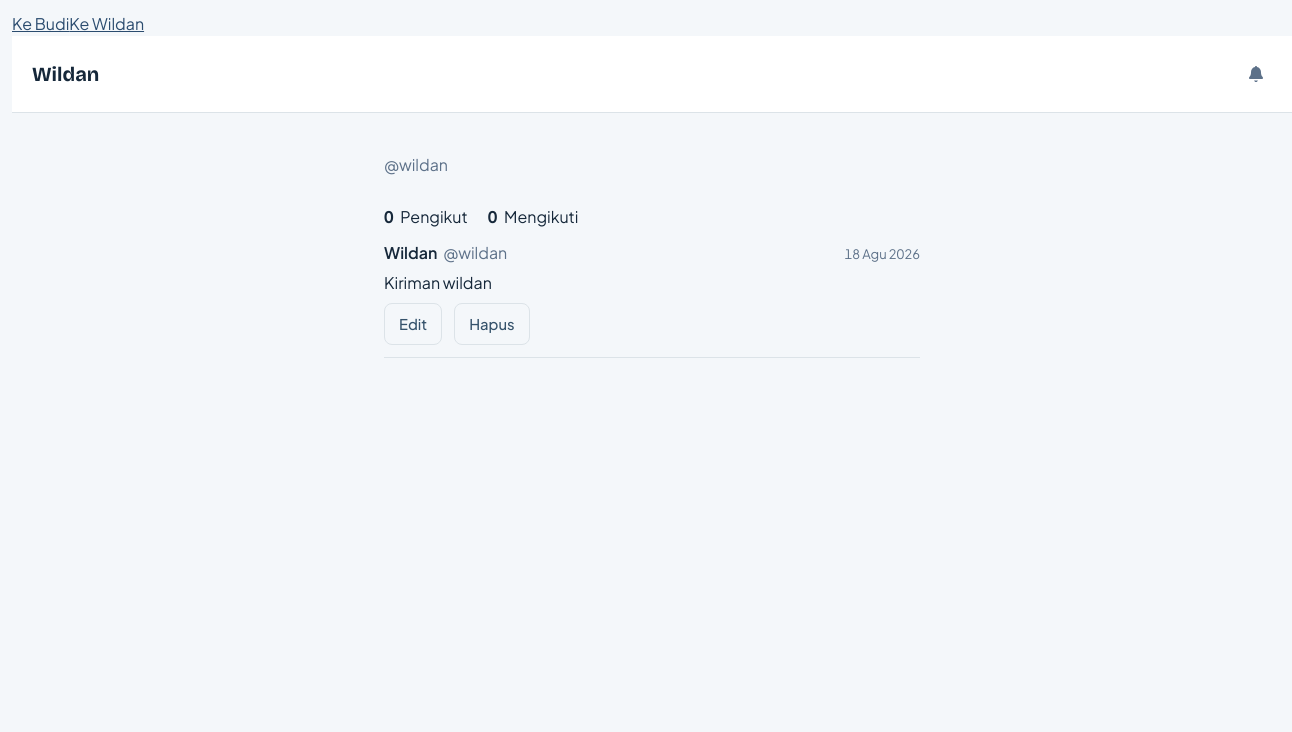
Test: ProfilePage — resets per-post state when the viewed profile changes › drops an open edit composer, so 'Simpan' cannot PATCH a post from the last profile
This screenshot has width=1292, height=732.
Expected: the text "Kiriman wildan" is shown, [384,272,492,293]
Click the button "Edit": [413, 324] box [384,303,442,345]
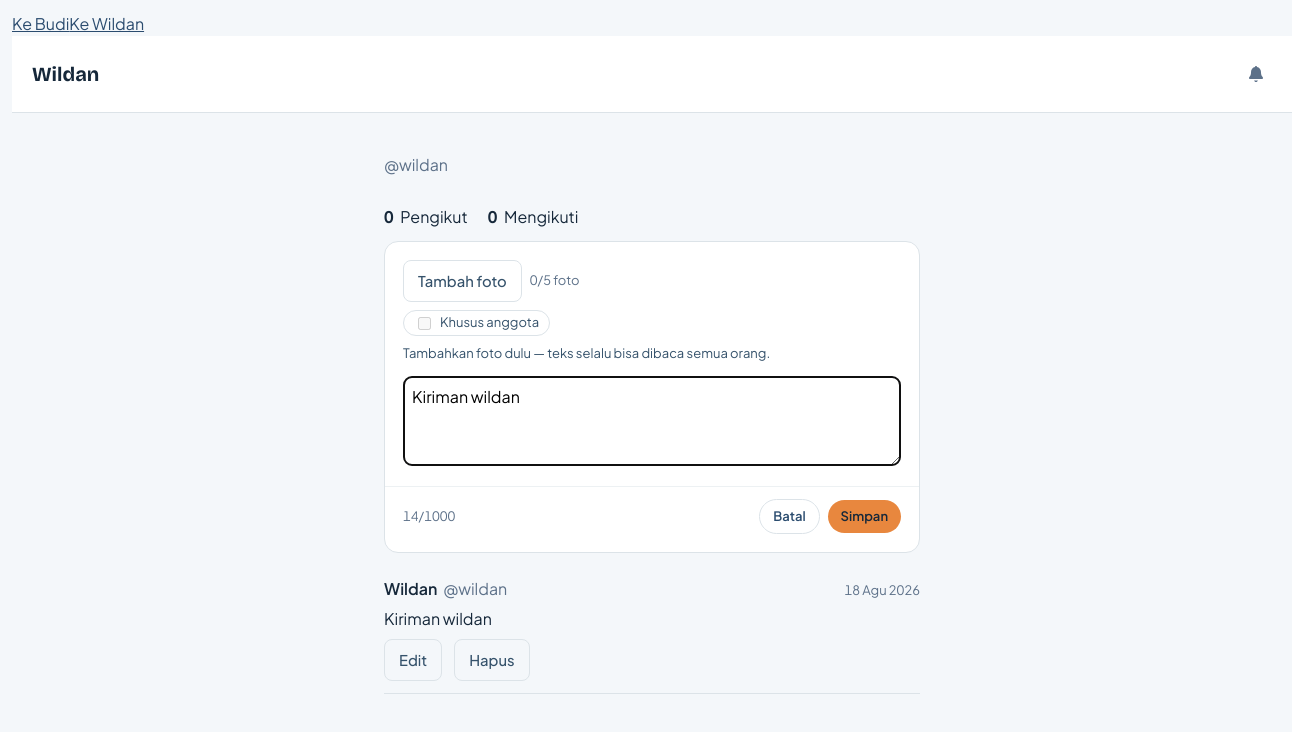
Expected: the button "Simpan" is shown, [828,500,901,533]
Click the link "Ke Budi": [41, 24] box [12,13,69,34]
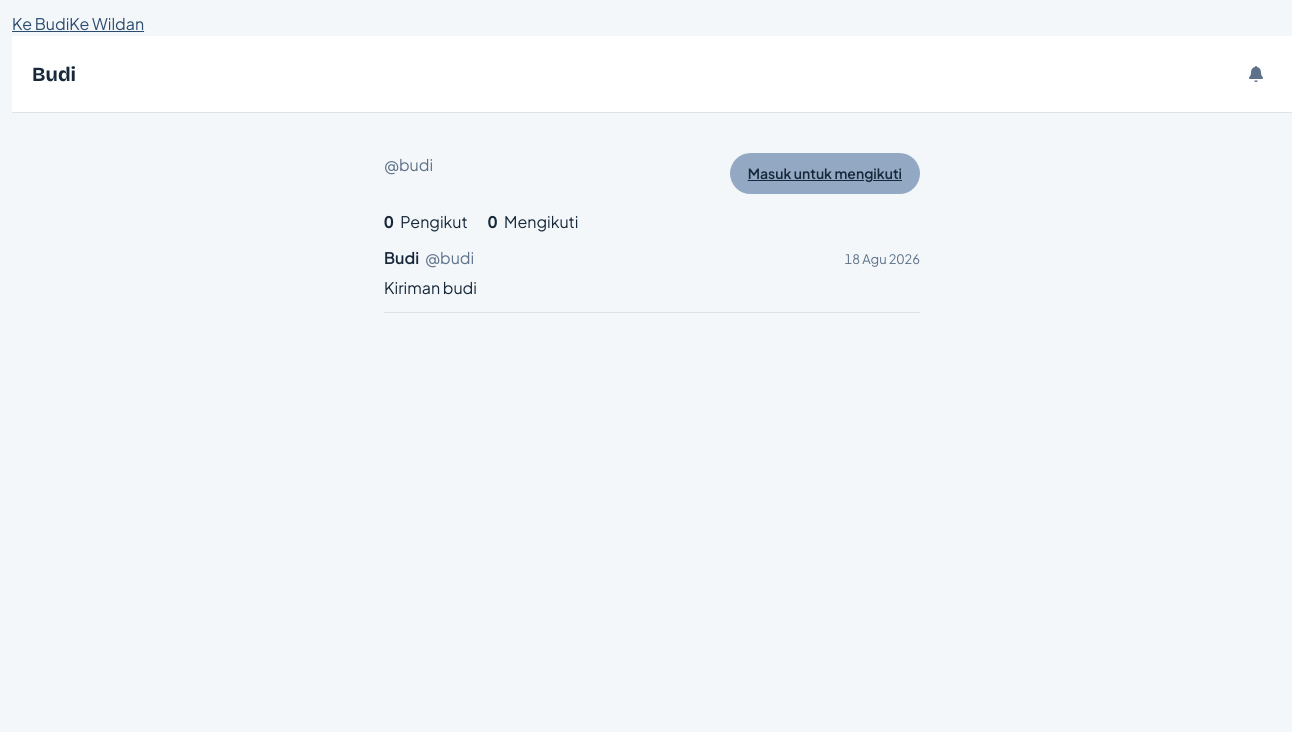
Expected: the text "Kiriman budi" is shown, [384,277,477,298]
